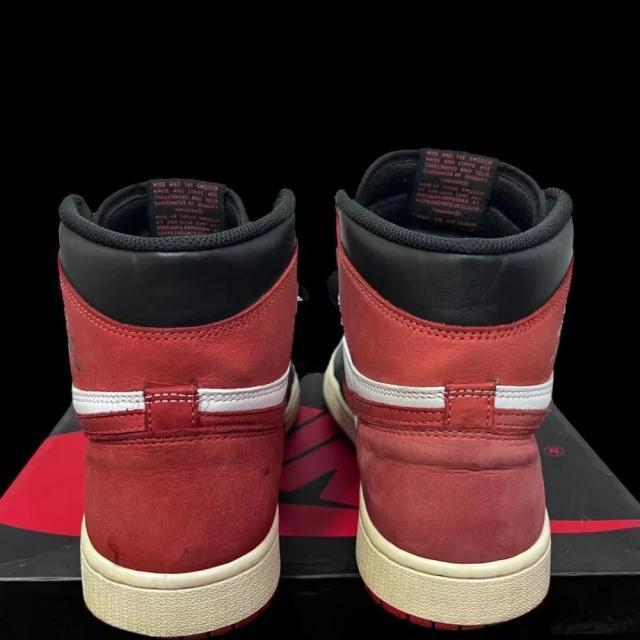nike original jordan 1: (318, 120, 578, 640), (54, 153, 304, 640)
